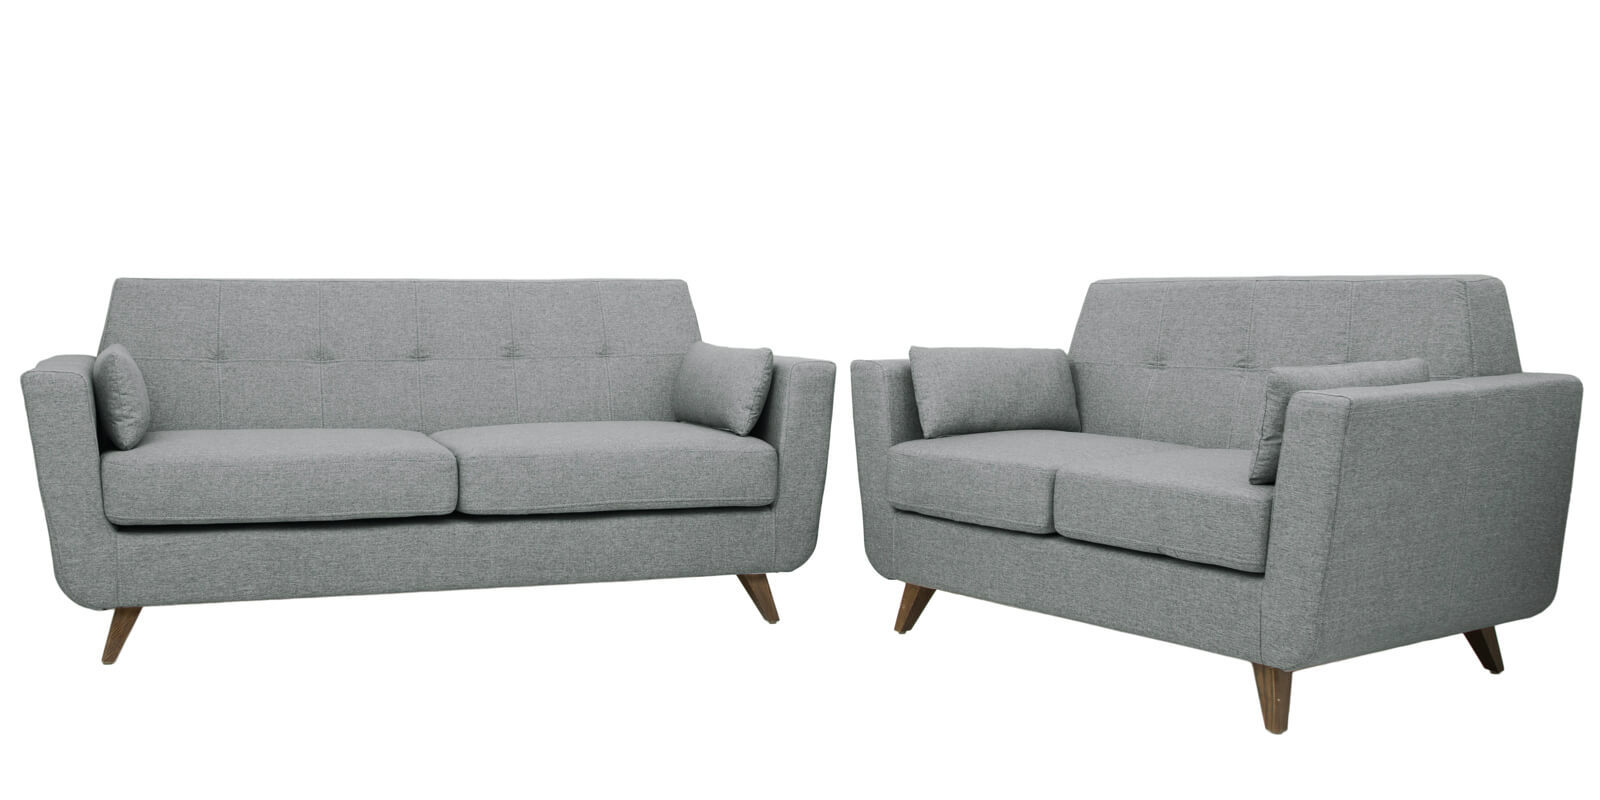Castello Three Seater Sofa in Gravel Grey Colour by CasaCraft: (853, 238, 1585, 738), (16, 246, 843, 679)
